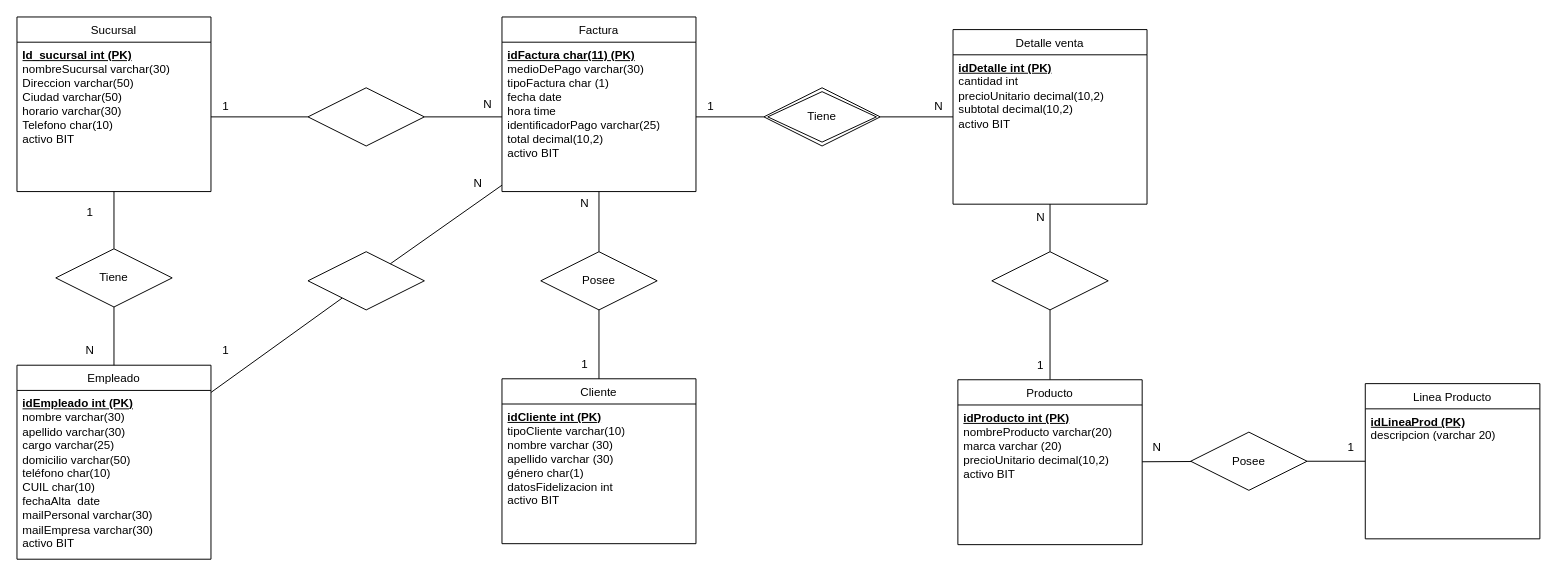
This 1557x579 diagram has some shape labels left out. Each missing label, with the centre of its shape:
"Asociado a" goes at (x=1049, y=280).
"Genera" goes at (x=365, y=280).
"Realiza" goes at (x=365, y=116).
